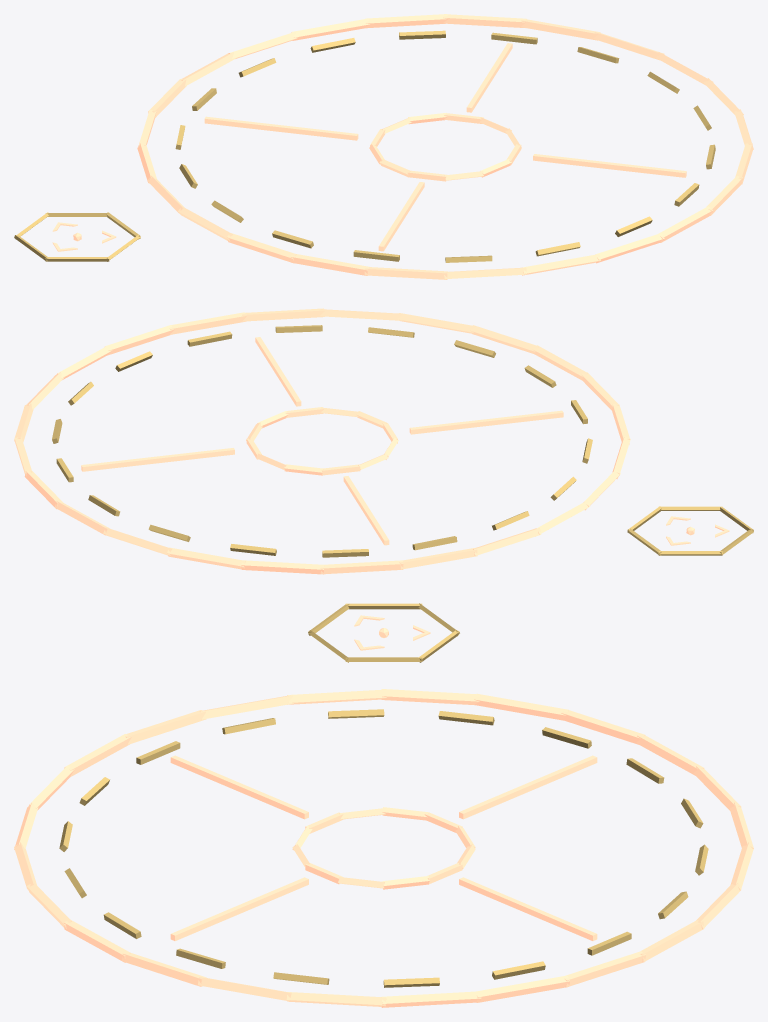
The model's file is FX_AegisTargetMarker.fbx.
The picture shows the model from 3 angles, top to bottom: view 1: azimuth 30°, elevation 25°; view 2: azimuth 150°, elevation 25°; view 3: azimuth 270°, elevation 25°; orthographic projection. The views are drawn at different scales.
Parts seen in each view (by area): view 1: AMark_WarnOuter, AMark_WarnDash, AMark_WarnInner, AMark_Outer, AMark_WarnSpoke1, AMark_WarnSpoke3, AMark_WarnSpoke0, AMark_WarnSpoke2; view 2: AMark_WarnOuter, AMark_WarnDash, AMark_WarnInner, AMark_Outer, AMark_WarnSpoke2, AMark_WarnSpoke0, AMark_WarnSpoke3, AMark_WarnSpoke1; view 3: AMark_WarnOuter, AMark_WarnDash, AMark_WarnInner, AMark_Outer, AMark_WarnSpoke1, AMark_WarnSpoke2, AMark_WarnSpoke0, AMark_WarnSpoke3.
Boxes of the visible parts, <box> form: AMark_WarnOuter: <box>137,14,753,279</box>; AMark_WarnDash: <box>175,30,715,262</box>; AMark_WarnInner: <box>369,113,521,181</box>; AMark_Outer: <box>14,212,140,261</box>; AMark_WarnSpoke1: <box>204,116,358,140</box>; AMark_WarnSpoke3: <box>533,154,686,177</box>; AMark_WarnSpoke0: <box>466,43,512,112</box>; AMark_WarnSpoke2: <box>378,182,424,251</box>; AMark_WarnOuter: <box>14,308,630,574</box>; AMark_WarnDash: <box>52,325,592,557</box>; AMark_WarnInner: <box>246,407,398,475</box>; AMark_Outer: <box>627,506,753,555</box>; AMark_WarnSpoke2: <box>409,410,563,434</box>; AMark_WarnSpoke0: <box>81,448,234,471</box>; AMark_WarnSpoke3: <box>255,337,301,406</box>; AMark_WarnSpoke1: <box>343,476,389,545</box>; AMark_WarnOuter: <box>14,689,753,1007</box>; AMark_WarnDash: <box>59,709,708,987</box>; AMark_WarnInner: <box>292,807,475,889</box>; AMark_Outer: <box>308,603,459,662</box>; AMark_WarnSpoke1: <box>459,755,597,819</box>; AMark_WarnSpoke2: <box>170,755,308,819</box>; AMark_WarnSpoke0: <box>459,877,597,940</box>; AMark_WarnSpoke3: <box>170,877,308,940</box>.
Size of the model in its own units: 6.5 by 0.08 by 5.08.
